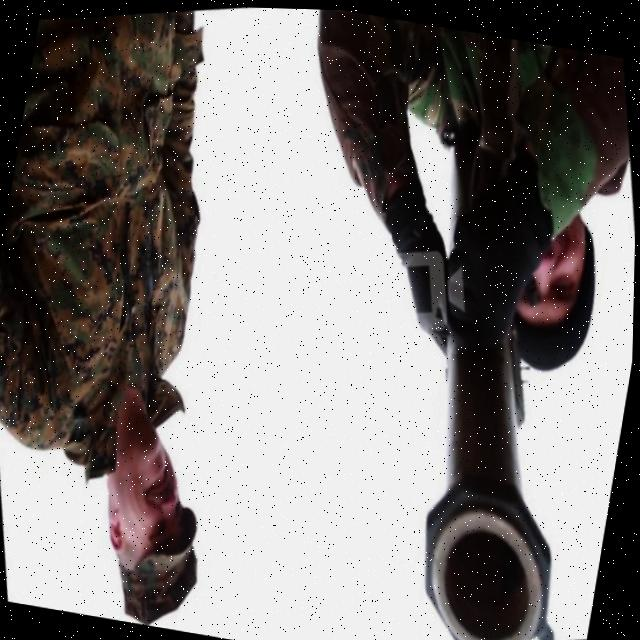rocket: (363, 309, 608, 640)
